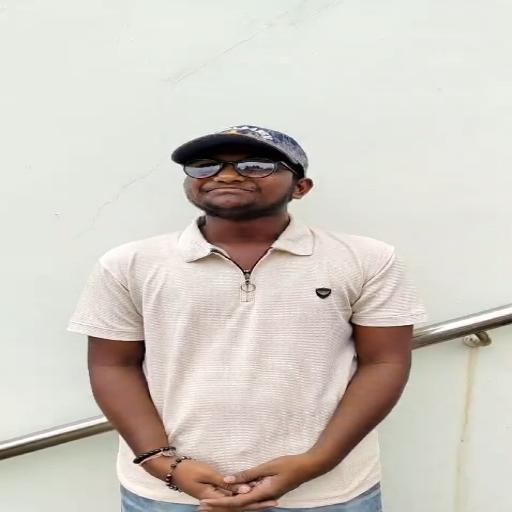employee-detectio-system: (61, 114, 432, 414)
